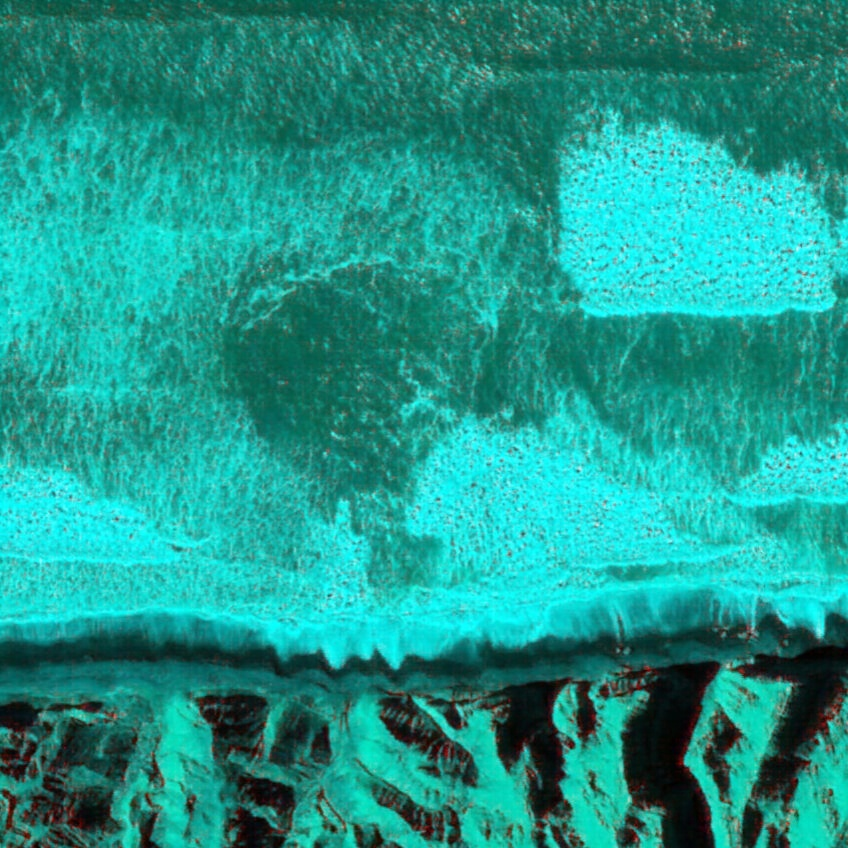rip_current: (183, 113, 528, 579)
